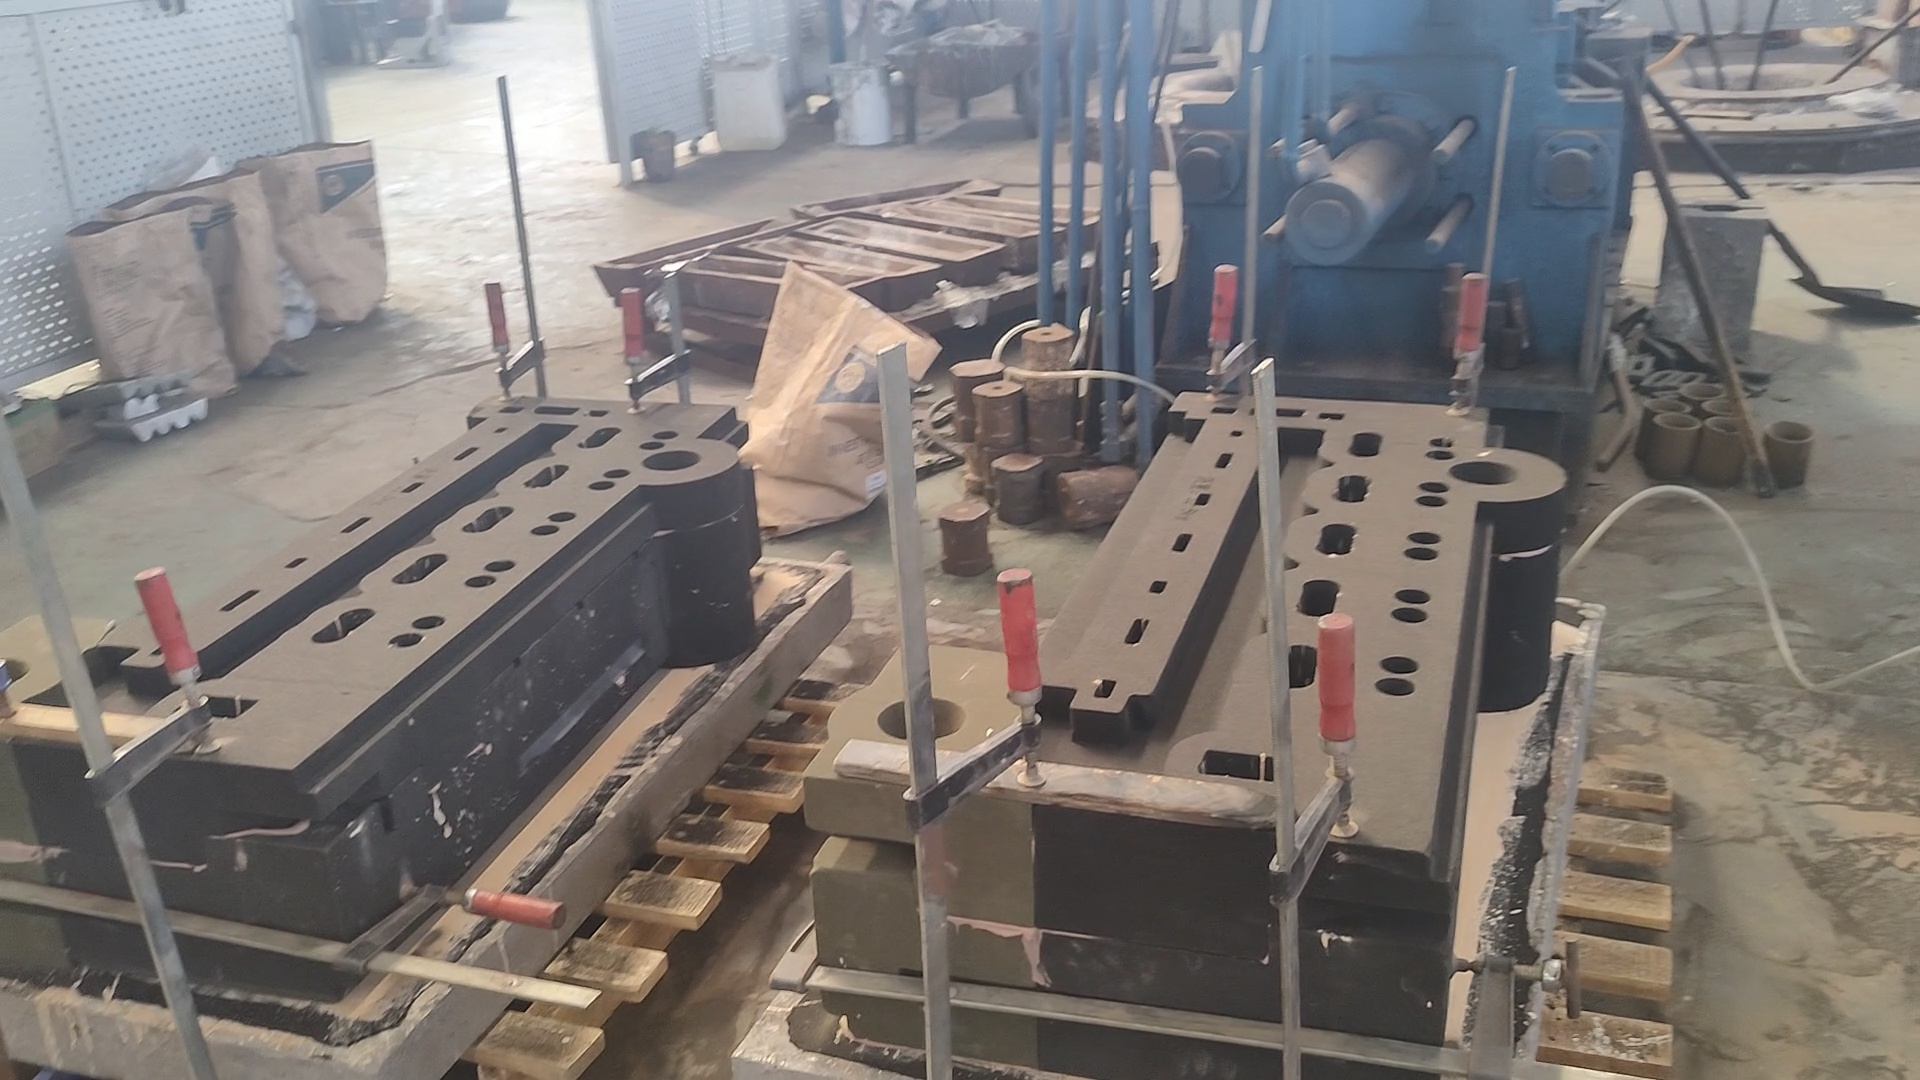pouring hole: (877, 694, 967, 740), (1447, 460, 1520, 487), (640, 448, 703, 472), (1764, 419, 1816, 443), (1, 657, 32, 688), (1643, 397, 1695, 414), (1652, 411, 1701, 429), (1705, 415, 1749, 434), (1680, 382, 1726, 398), (1702, 400, 1747, 414)
